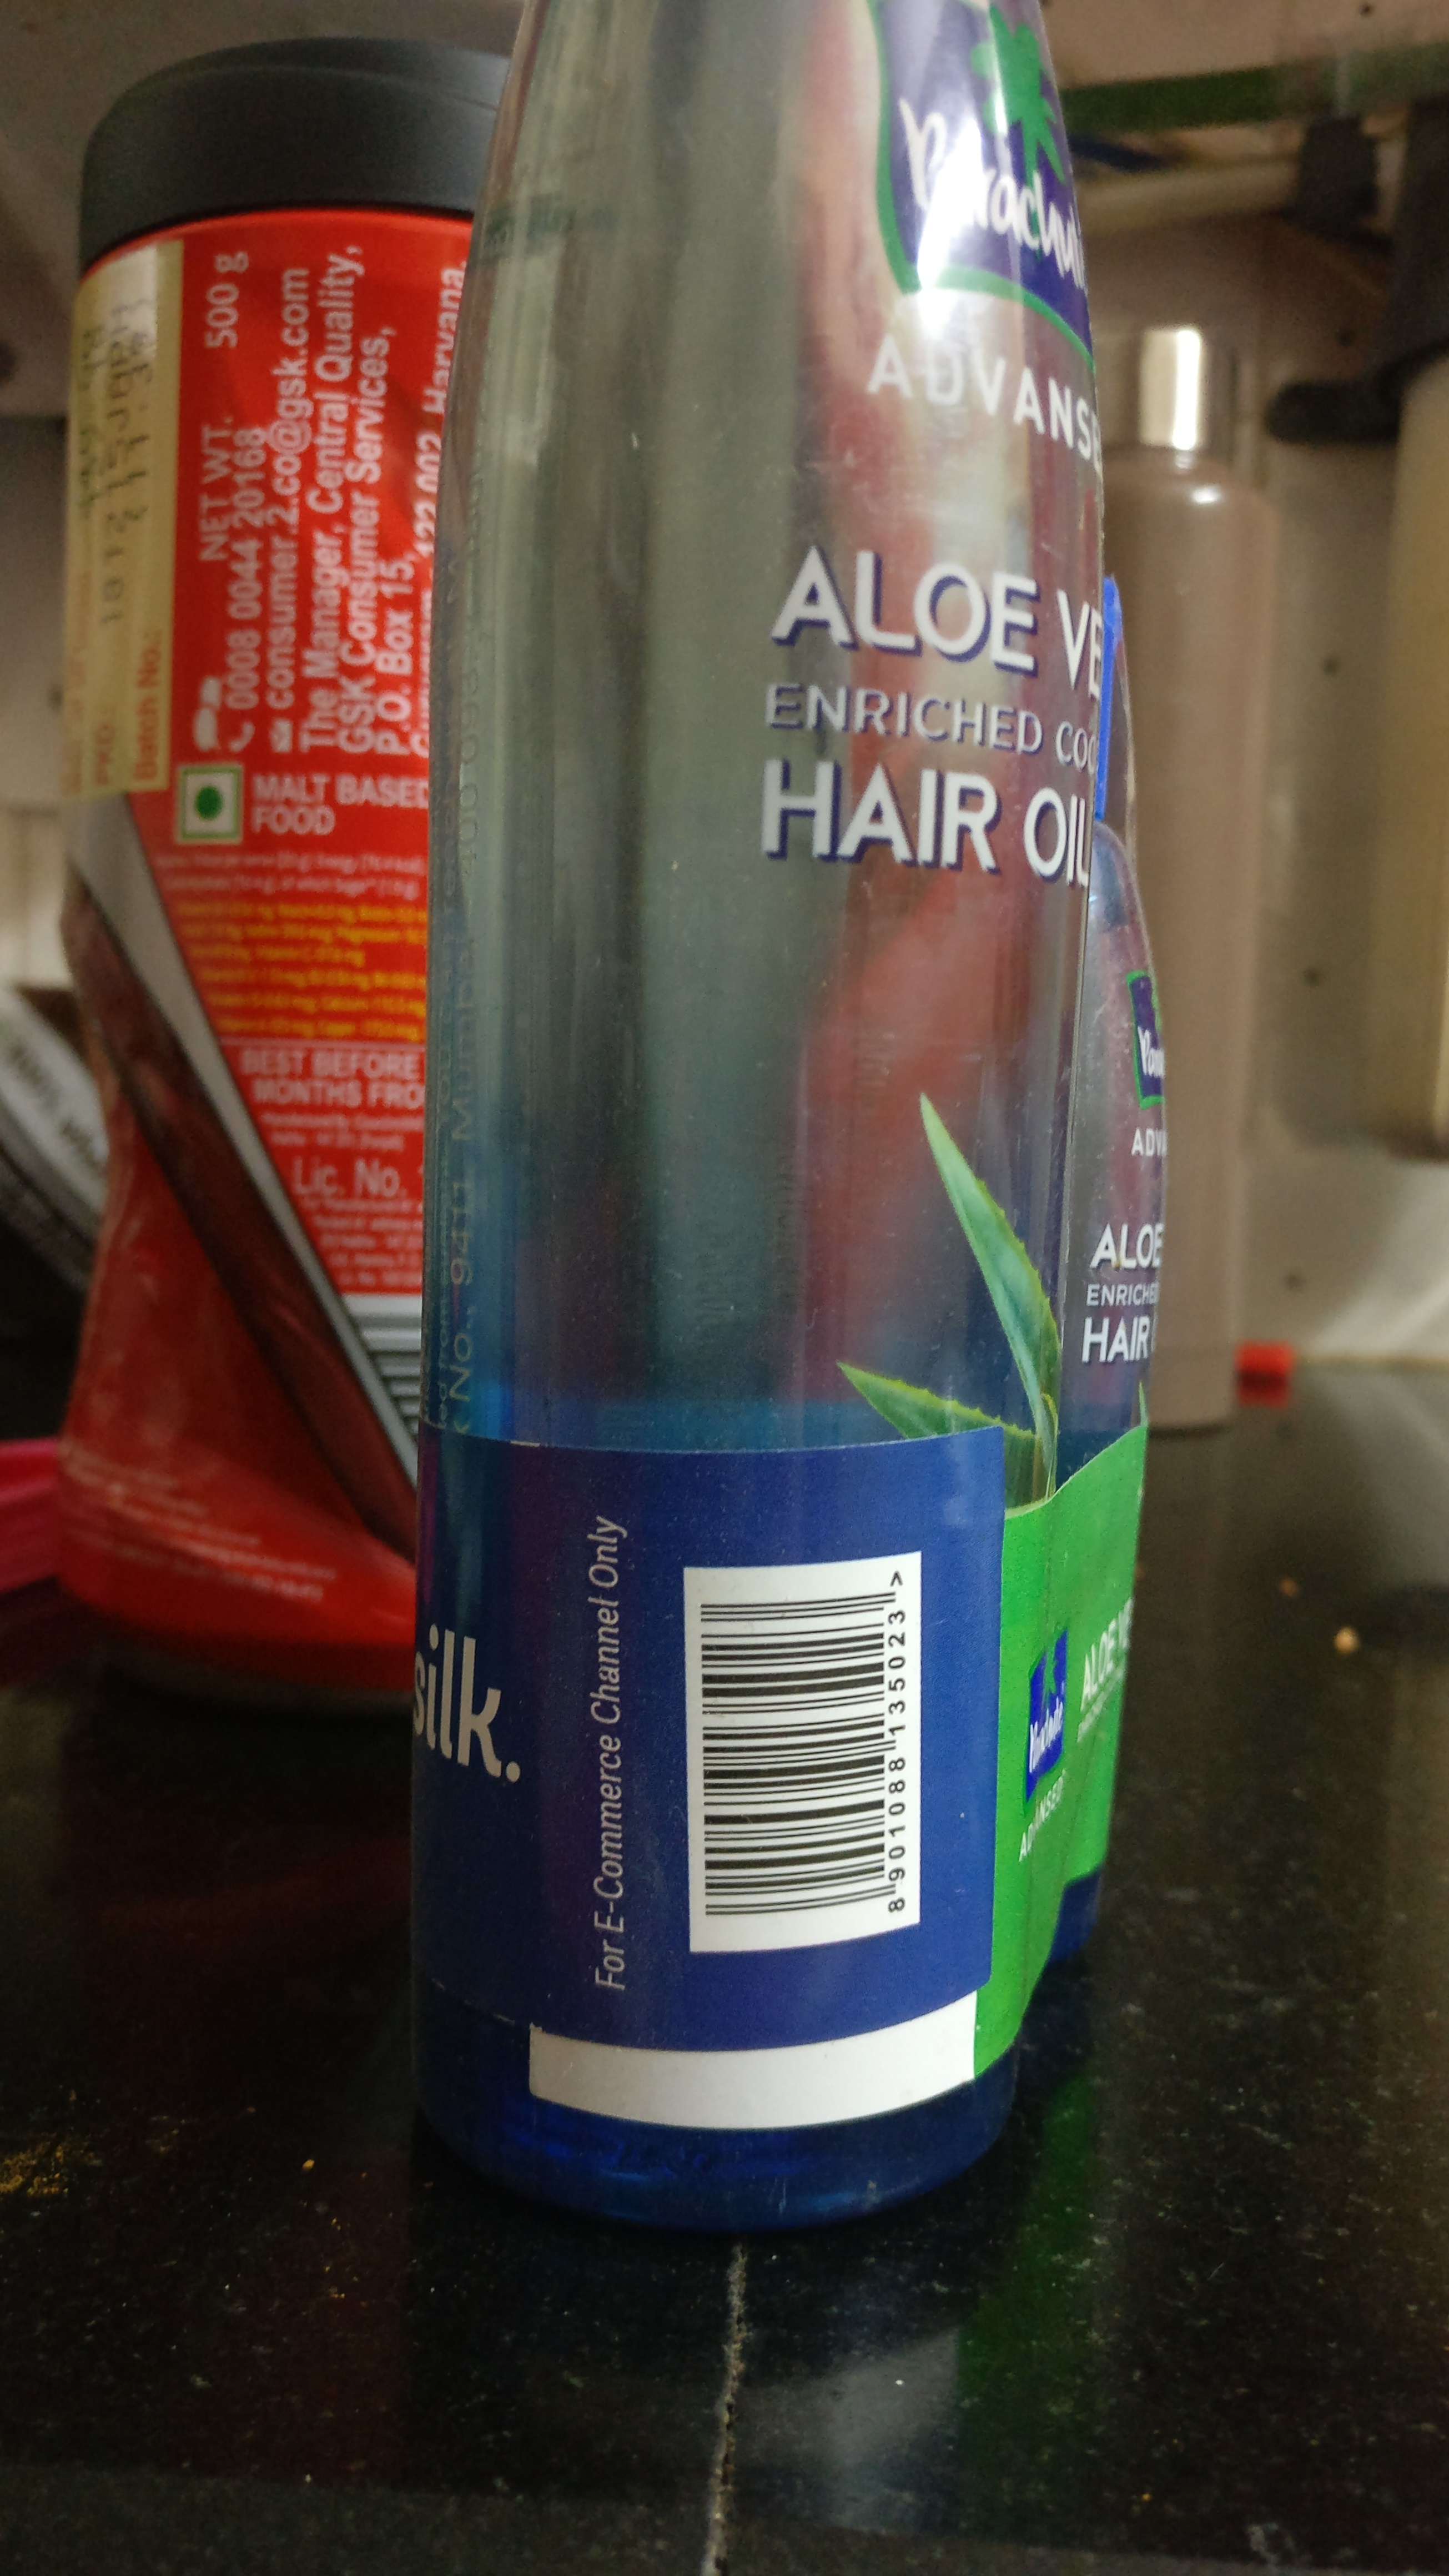barcode: (681, 1566, 916, 1971)
